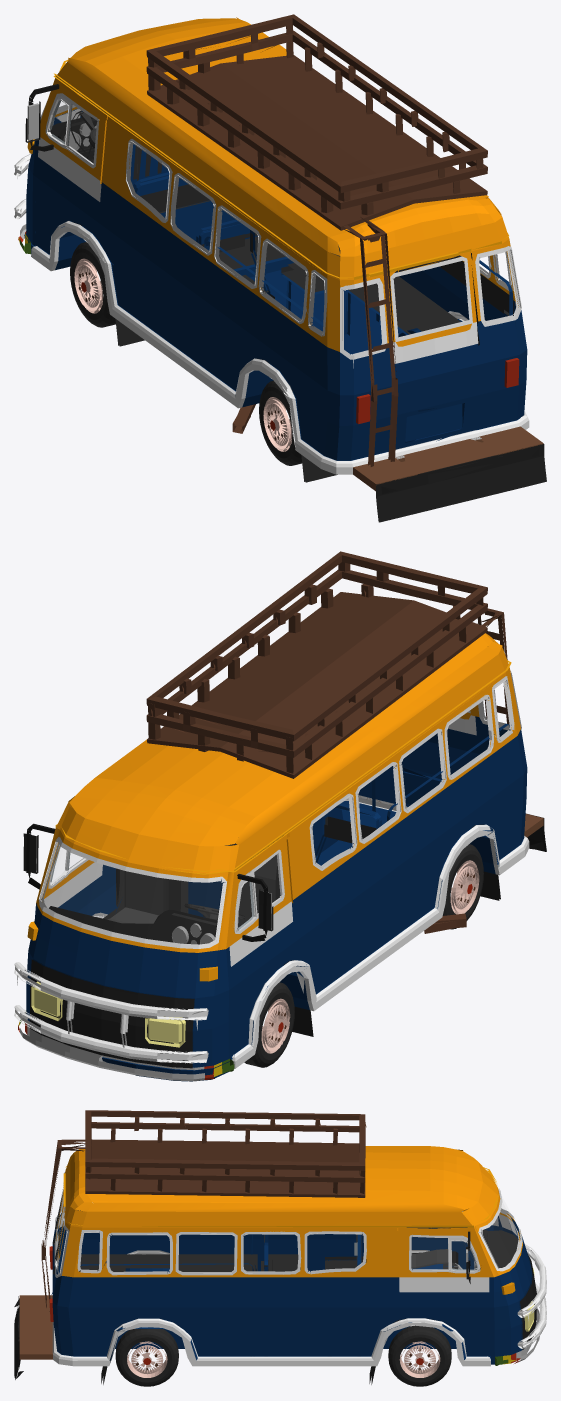
Rendered from sf_car_rapide.glb.
3 views of the same model, one above another, from view 1: azimuth 30°, elevation 25°; view 2: azimuth 150°, elevation 25°; view 3: azimuth 270°, elevation 25° (orthographic). The views are drawn at different scales.
Parts seen in each view (by area): view 1: Carosserie_Material_0, Porte_arriere_Material_0, object 3, Garde boue_Material_0, Porte_avant_gauche_Material_0, Escalier_Material_0, Grille_Material_0, Wheel_3, Wheel_1, Fenetre_arriere_Material_0, Retroviseur gauche_Material_0, Tableau de bord_Material_0; view 2: Carosserie_Material_0, Porte_avant_gauche_Material_0, Pare buffle_Material_0, Chaises avant_Material_0, Porte_arriere_Material_0, Tableau de bord_Material_0, Porte_avant_droit_Material_0, Parechoc avant.003_Material_0, Wheel_3, Wheel_1, object 3, Garde boue_Material_0 (+4 smaller); view 3: Carosserie_Material_0, Porte_avant_droit_Material_0, object 3, Wheel_2, Wheel_0, Pare buffle_Material_0, Escalier_Material_0, Porte_avant_gauche_Material_0, Chaises avant_Material_0, Garde boue_Material_0, Parechoc avant.003_Material_0.
Boxes of the visible parts, <box> form: Carosserie_Material_0: <box>24,14,543,491</box>; Porte_arriere_Material_0: <box>387,251,479,449</box>; object 3: <box>133,172,513,394</box>; Garde boue_Material_0: <box>115,319,546,522</box>; Porte_avant_gauche_Material_0: <box>35,85,106,254</box>; Escalier_Material_0: <box>343,217,398,466</box>; Grille_Material_0: <box>130,144,293,277</box>; Wheel_3: <box>70,242,115,327</box>; Wheel_1: <box>259,380,301,465</box>; Fenetre_arriere_Material_0: <box>390,256,472,341</box>; Retroviseur gauche_Material_0: <box>25,84,59,151</box>; Tableau de bord_Material_0: <box>50,116,97,162</box>; Carosserie_Material_0: <box>26,551,543,1081</box>; Porte_avant_gauche_Material_0: <box>229,838,294,1055</box>; Pare buffle_Material_0: <box>14,962,208,1063</box>; Chaises avant_Material_0: <box>103,835,294,964</box>; Porte_arriere_Material_0: <box>390,707,478,806</box>; Tableau de bord_Material_0: <box>49,906,217,944</box>; Porte_avant_droit_Material_0: <box>44,842,102,915</box>; Parechoc avant.003_Material_0: <box>18,1019,234,1081</box>; Wheel_3: <box>244,982,294,1067</box>; Wheel_1: <box>442,844,483,929</box>; object 3: <box>225,723,511,862</box>; Garde boue_Material_0: <box>292,813,546,1036</box>; Carosserie_Material_0: <box>19,1110,536,1366</box>; Porte_avant_droit_Material_0: <box>399,1228,490,1356</box>; object 3: <box>77,1210,363,1356</box>; Wheel_2: <box>388,1325,451,1386</box>; Wheel_0: <box>115,1329,178,1386</box>; Pare buffle_Material_0: <box>517,1244,546,1348</box>; Escalier_Material_0: <box>41,1139,85,1311</box>; Porte_avant_gauche_Material_0: <box>407,1208,489,1269</box>; Chaises avant_Material_0: <box>392,1249,458,1323</box>; Garde boue_Material_0: <box>14,1296,375,1384</box>; Parechoc avant.003_Material_0: <box>495,1308,539,1365</box>.
Bounding box in the file's own units: 2.39 × 2.81 × 6.17.
Materials: 3 (2 with a texture image).
